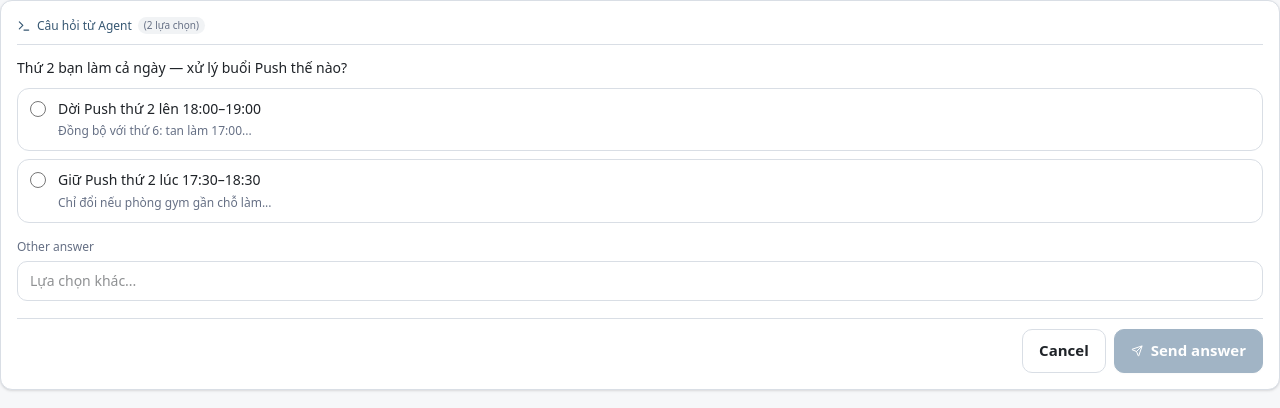
Test: InteractionCard › immediately hides the card and displays natural text upon submitting custom answer
In the text box labelled "Other answer": coordinates (640, 281) [17, 261, 1263, 301], type "Tập vào sáng sớm thứ 7"
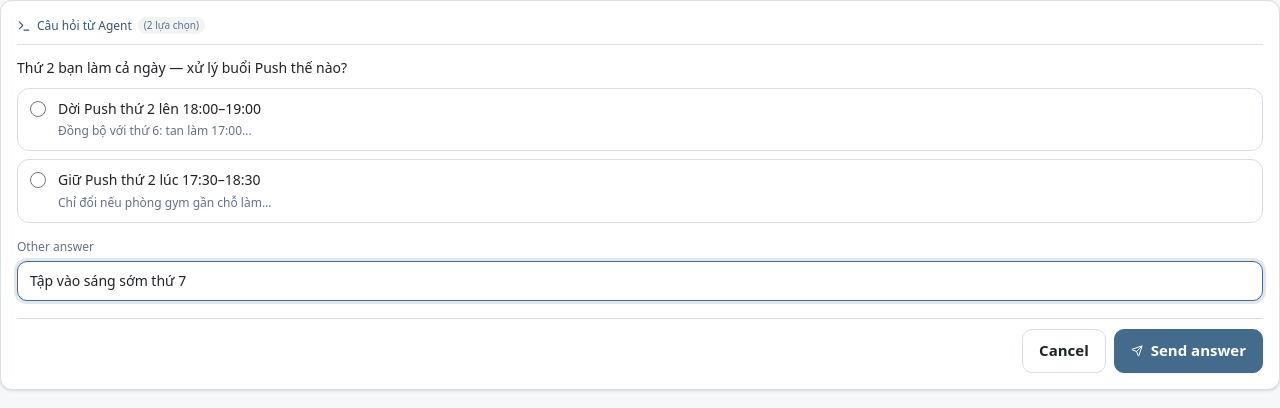
Now the button "Send answer" is enabled
Click the button "Send answer": coordinates (1188, 351) [1114, 329, 1263, 373]
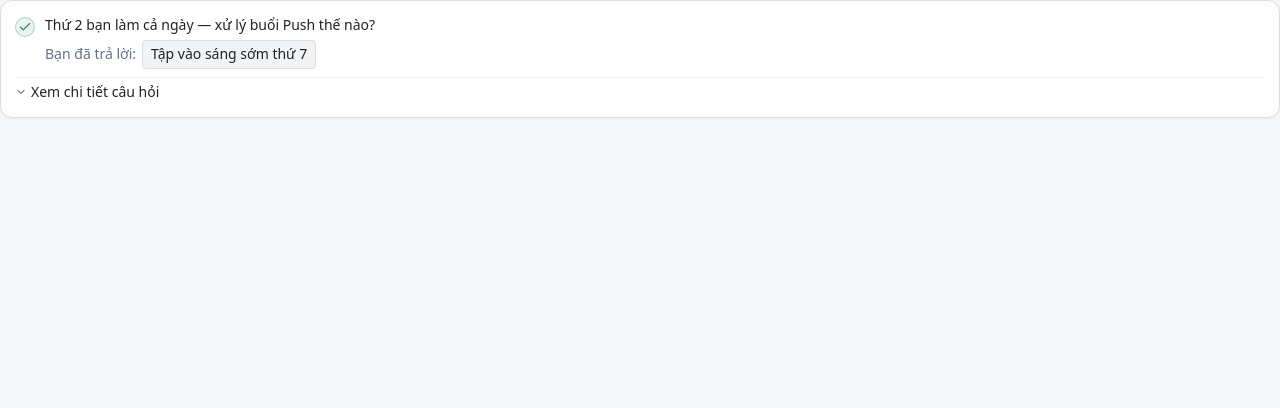
Now the text "Other answer" is gone
Now the text "Bạn đã trả lời:" is shown, box [45, 43, 136, 66]
Now the text "Tập vào sáng sớm thứ 7" is shown, box [142, 40, 316, 69]
